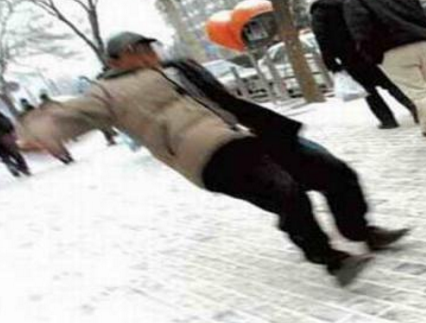falling: (42, 40, 407, 281)
